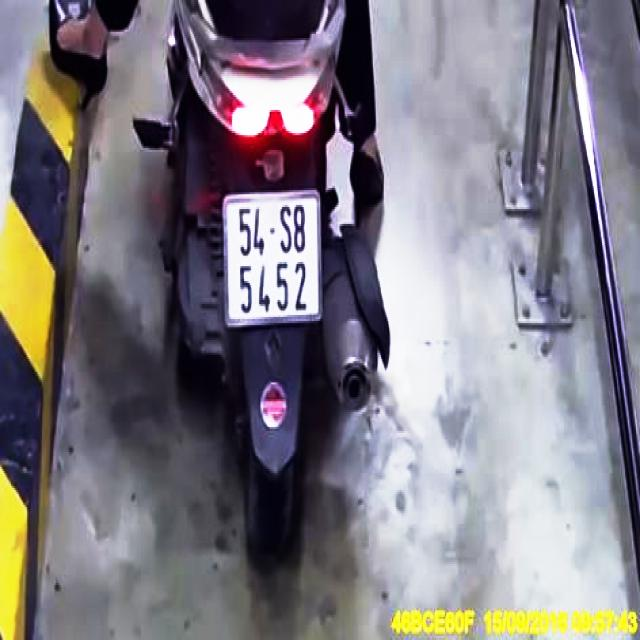license_plate: (226, 190, 324, 328)
